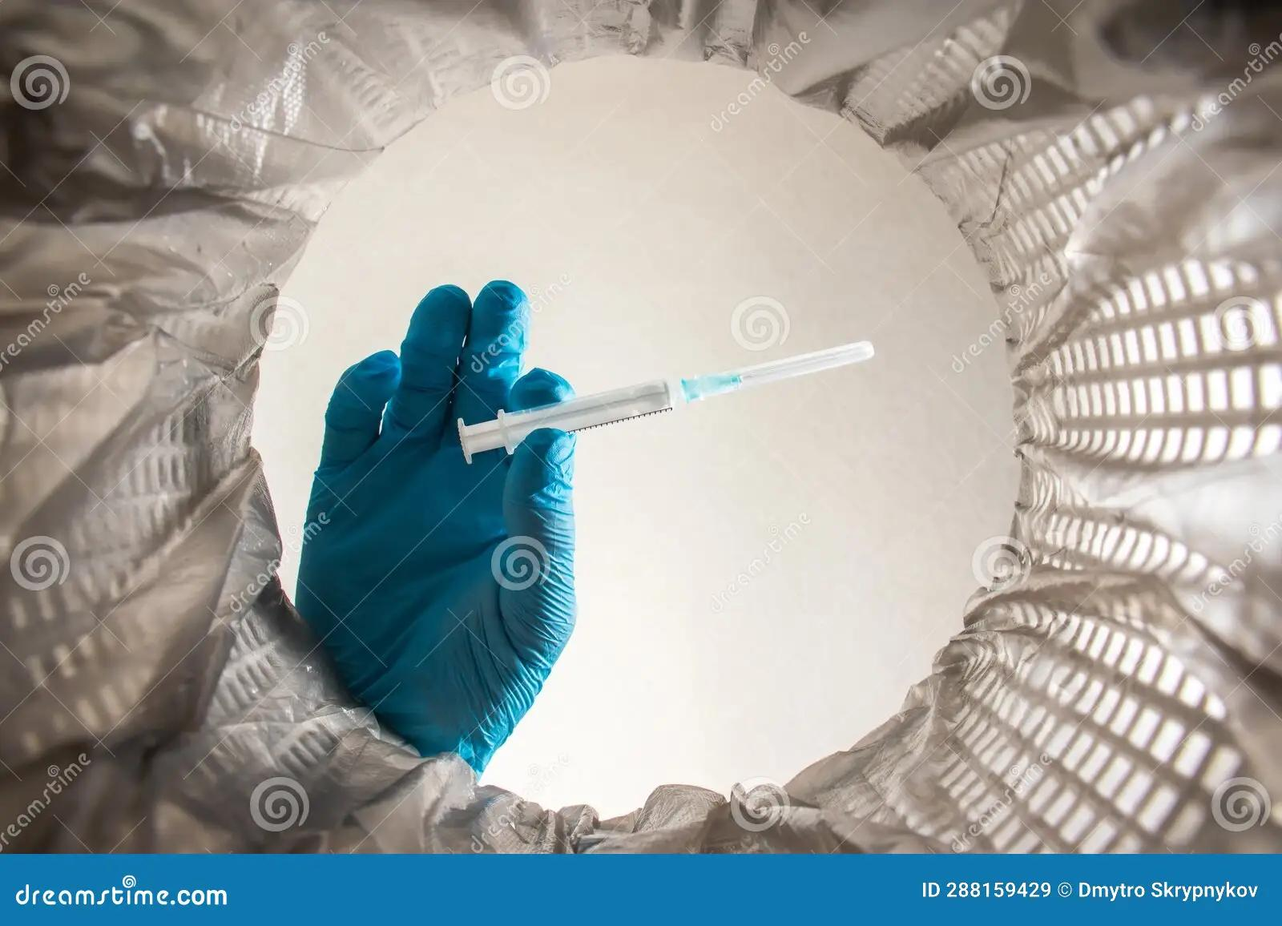Glove: (296, 281, 574, 773)
Syringe: (458, 341, 873, 462)
